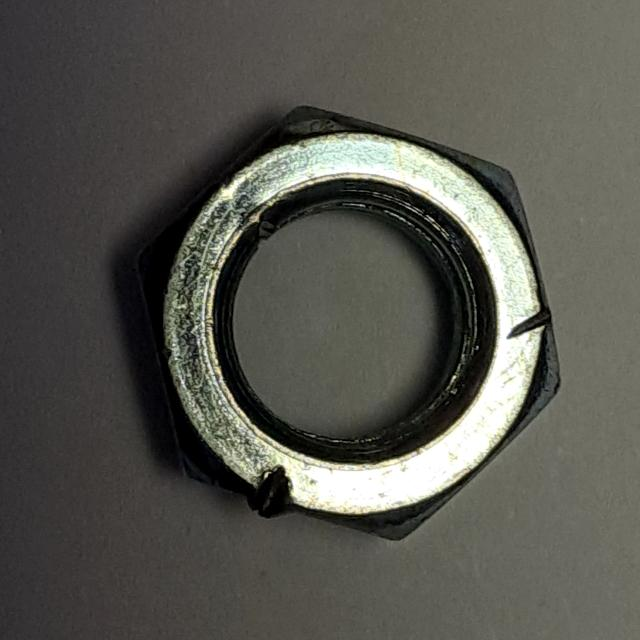Scratches: (124, 92, 574, 555)
